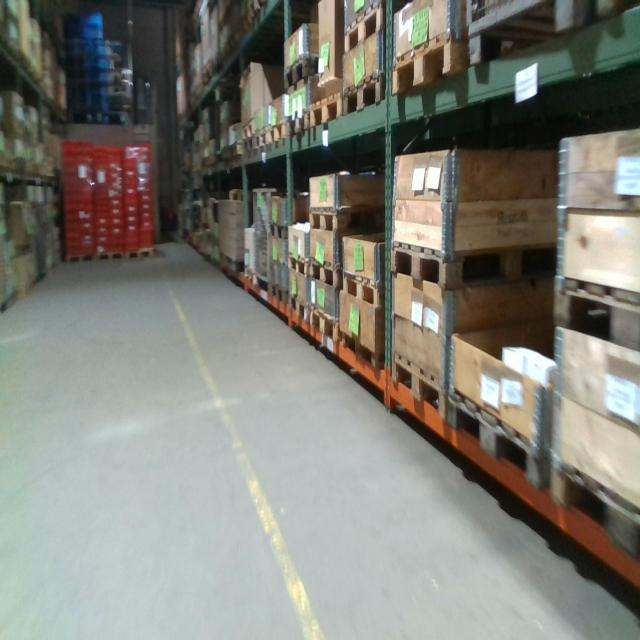pallet: (446, 383, 549, 491), (390, 234, 555, 288), (549, 446, 615, 544), (391, 34, 464, 95), (551, 269, 614, 335), (392, 351, 447, 423), (343, 68, 385, 130), (342, 2, 384, 59), (309, 203, 387, 233), (339, 328, 386, 370), (341, 268, 391, 306), (309, 89, 341, 138), (280, 52, 320, 85), (309, 303, 341, 344), (310, 258, 341, 289), (285, 108, 316, 138), (287, 289, 310, 325), (266, 117, 287, 150), (286, 250, 313, 275), (123, 243, 155, 263), (62, 252, 92, 270), (255, 126, 271, 159), (240, 111, 257, 142), (95, 247, 121, 266), (269, 280, 287, 305), (243, 131, 258, 161), (268, 218, 290, 237), (245, 266, 262, 290)
stillage: (462, 1, 590, 70), (248, 182, 274, 294)
